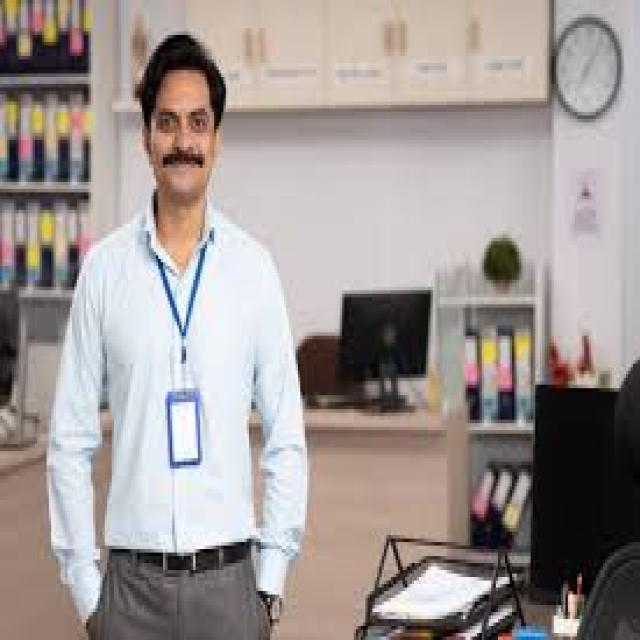id_card: (149, 236, 220, 468)
